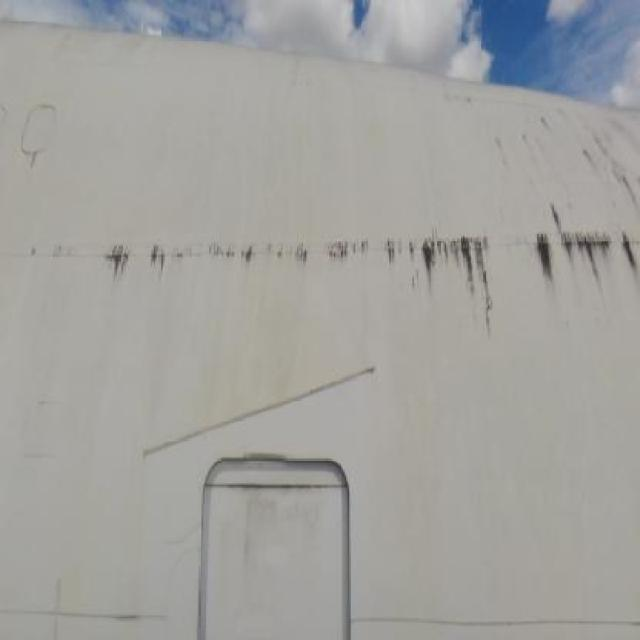Scartch: (44, 203, 640, 336), (132, 364, 380, 453)
